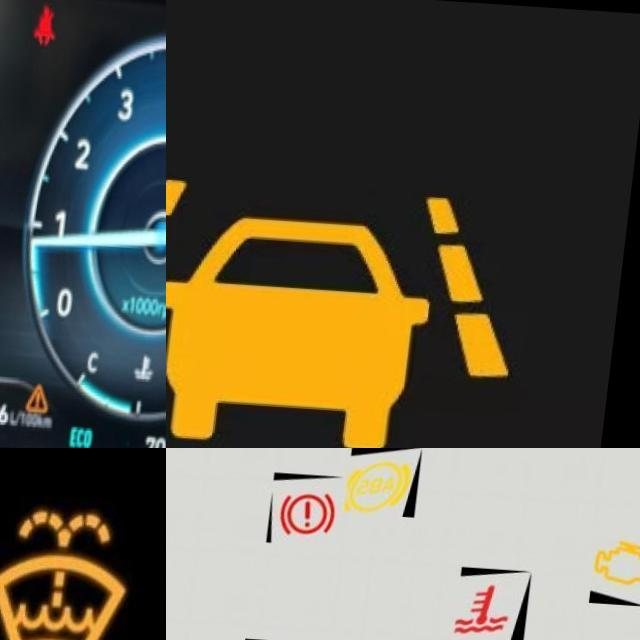Seat Belt: (32, 0, 67, 46)
Washer Fluid: (0, 501, 145, 640)
